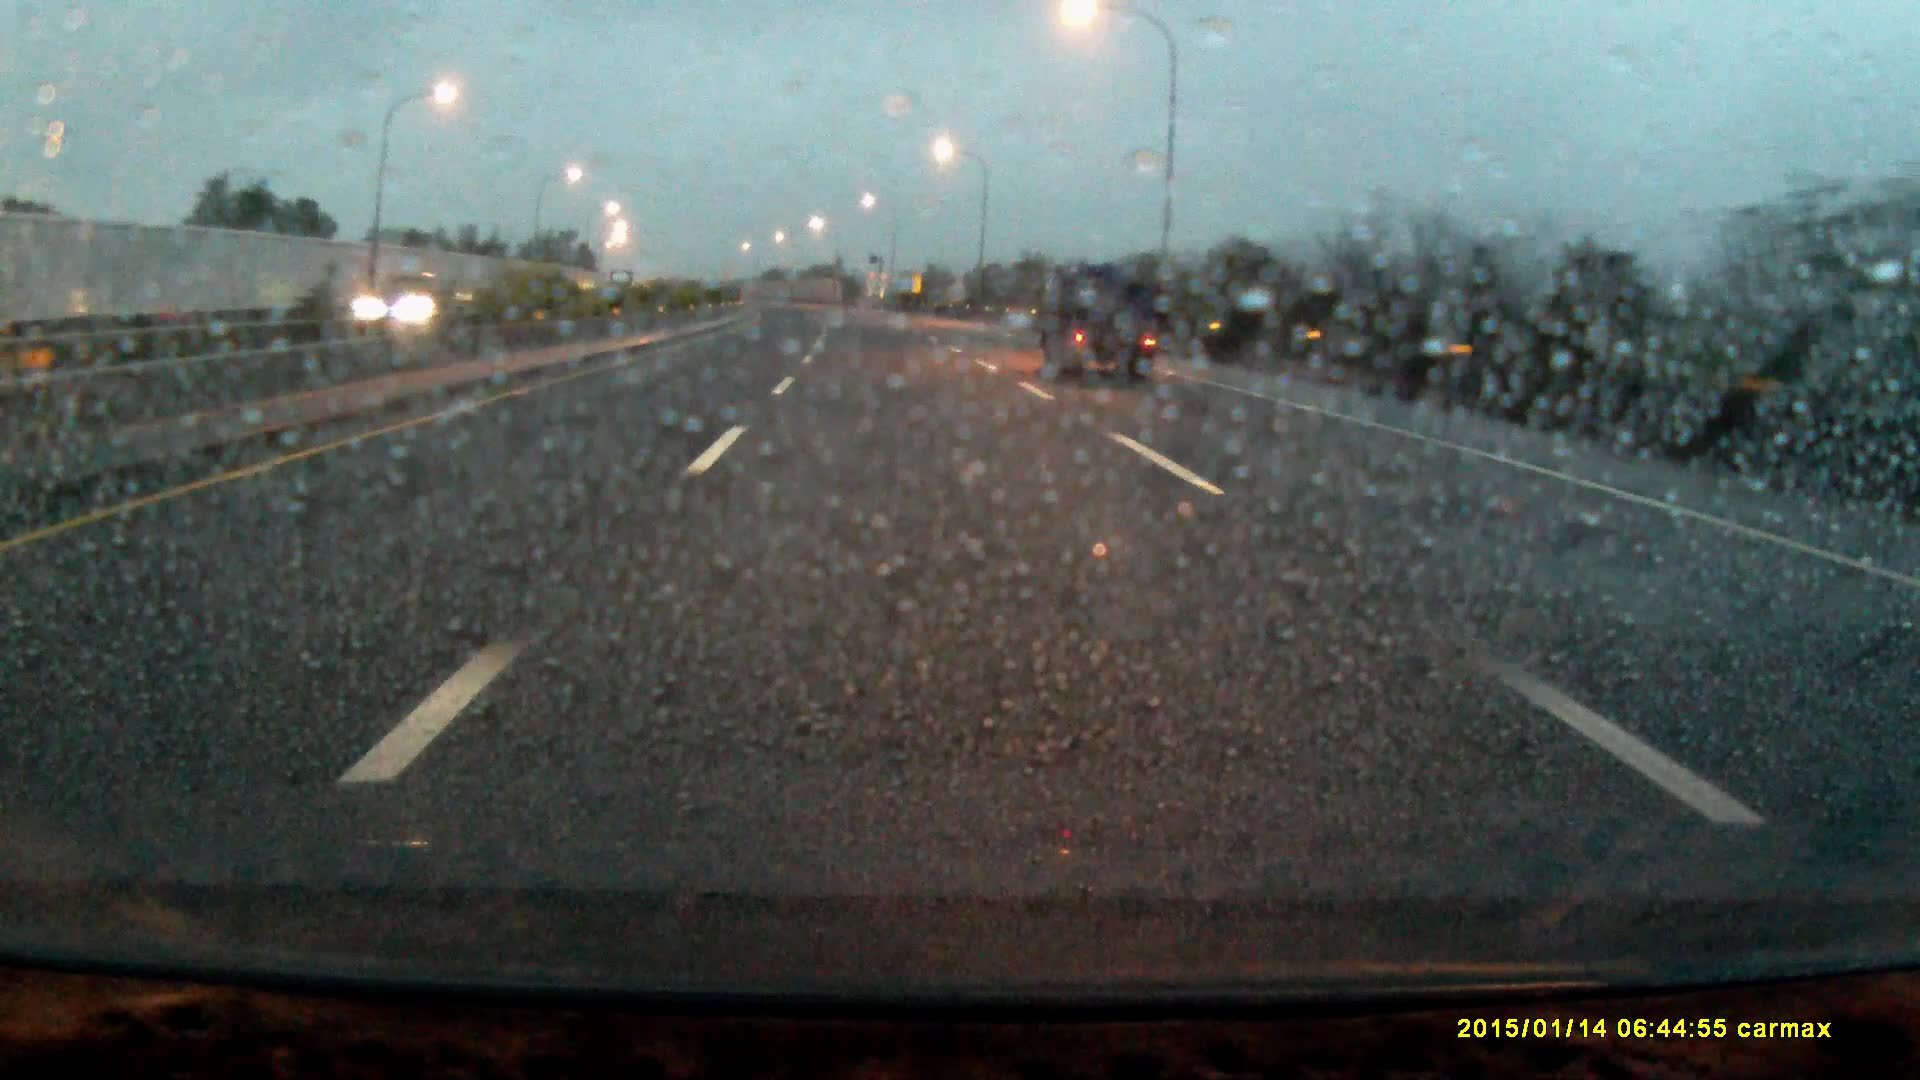vehicle: (1044, 268, 1156, 380), (340, 276, 448, 330), (611, 269, 636, 291)
